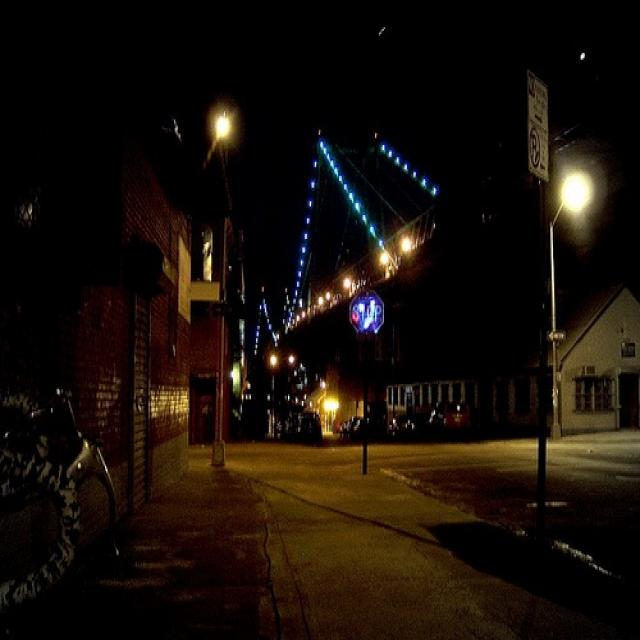bicycle: (22, 386, 114, 568)
car: (387, 403, 438, 442), (439, 396, 470, 440), (292, 408, 321, 442), (347, 415, 361, 435), (338, 416, 351, 436)
pole: (528, 182, 554, 514), (358, 336, 372, 473)
